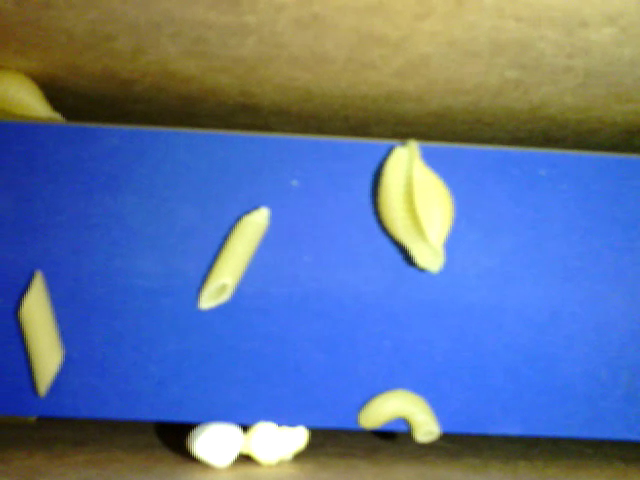elbow: (358, 390, 445, 447)
penne: (196, 204, 272, 311), (18, 270, 66, 399)
shell: (372, 135, 457, 282), (2, 68, 80, 128)
